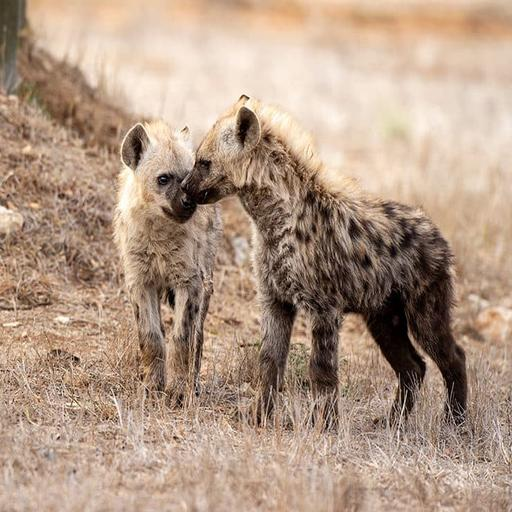Hyena: (183, 99, 479, 436), (100, 114, 215, 420)
